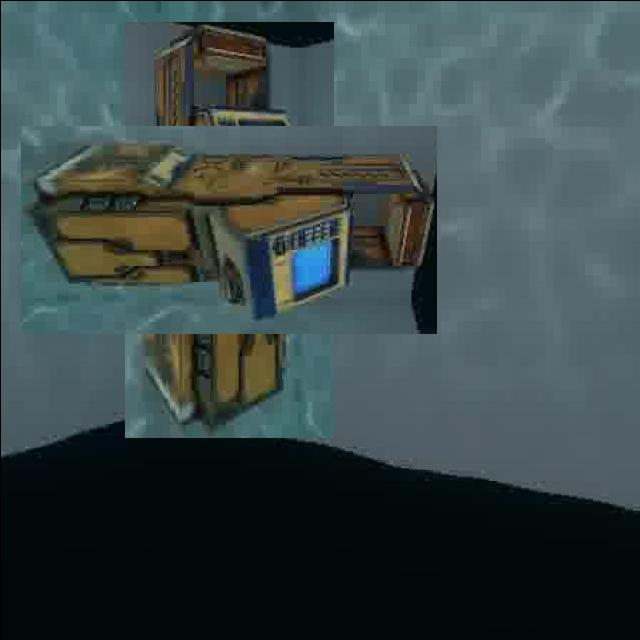Control Panel: (73, 73, 384, 385)
